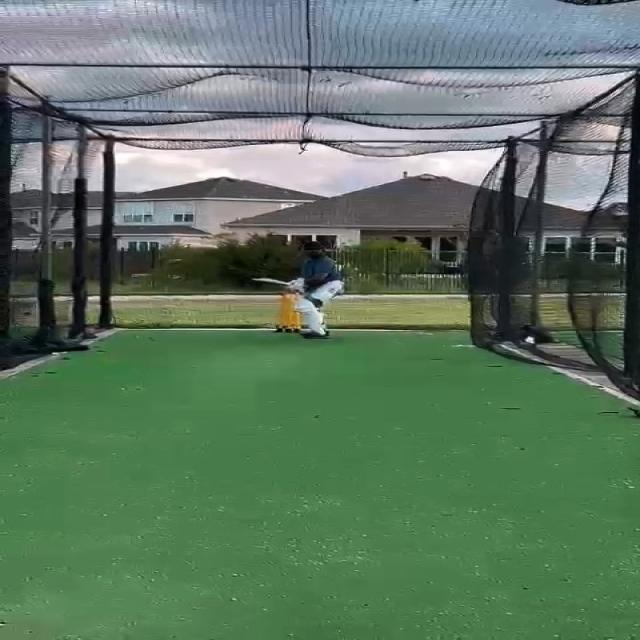batsman: (251, 240, 347, 340)
